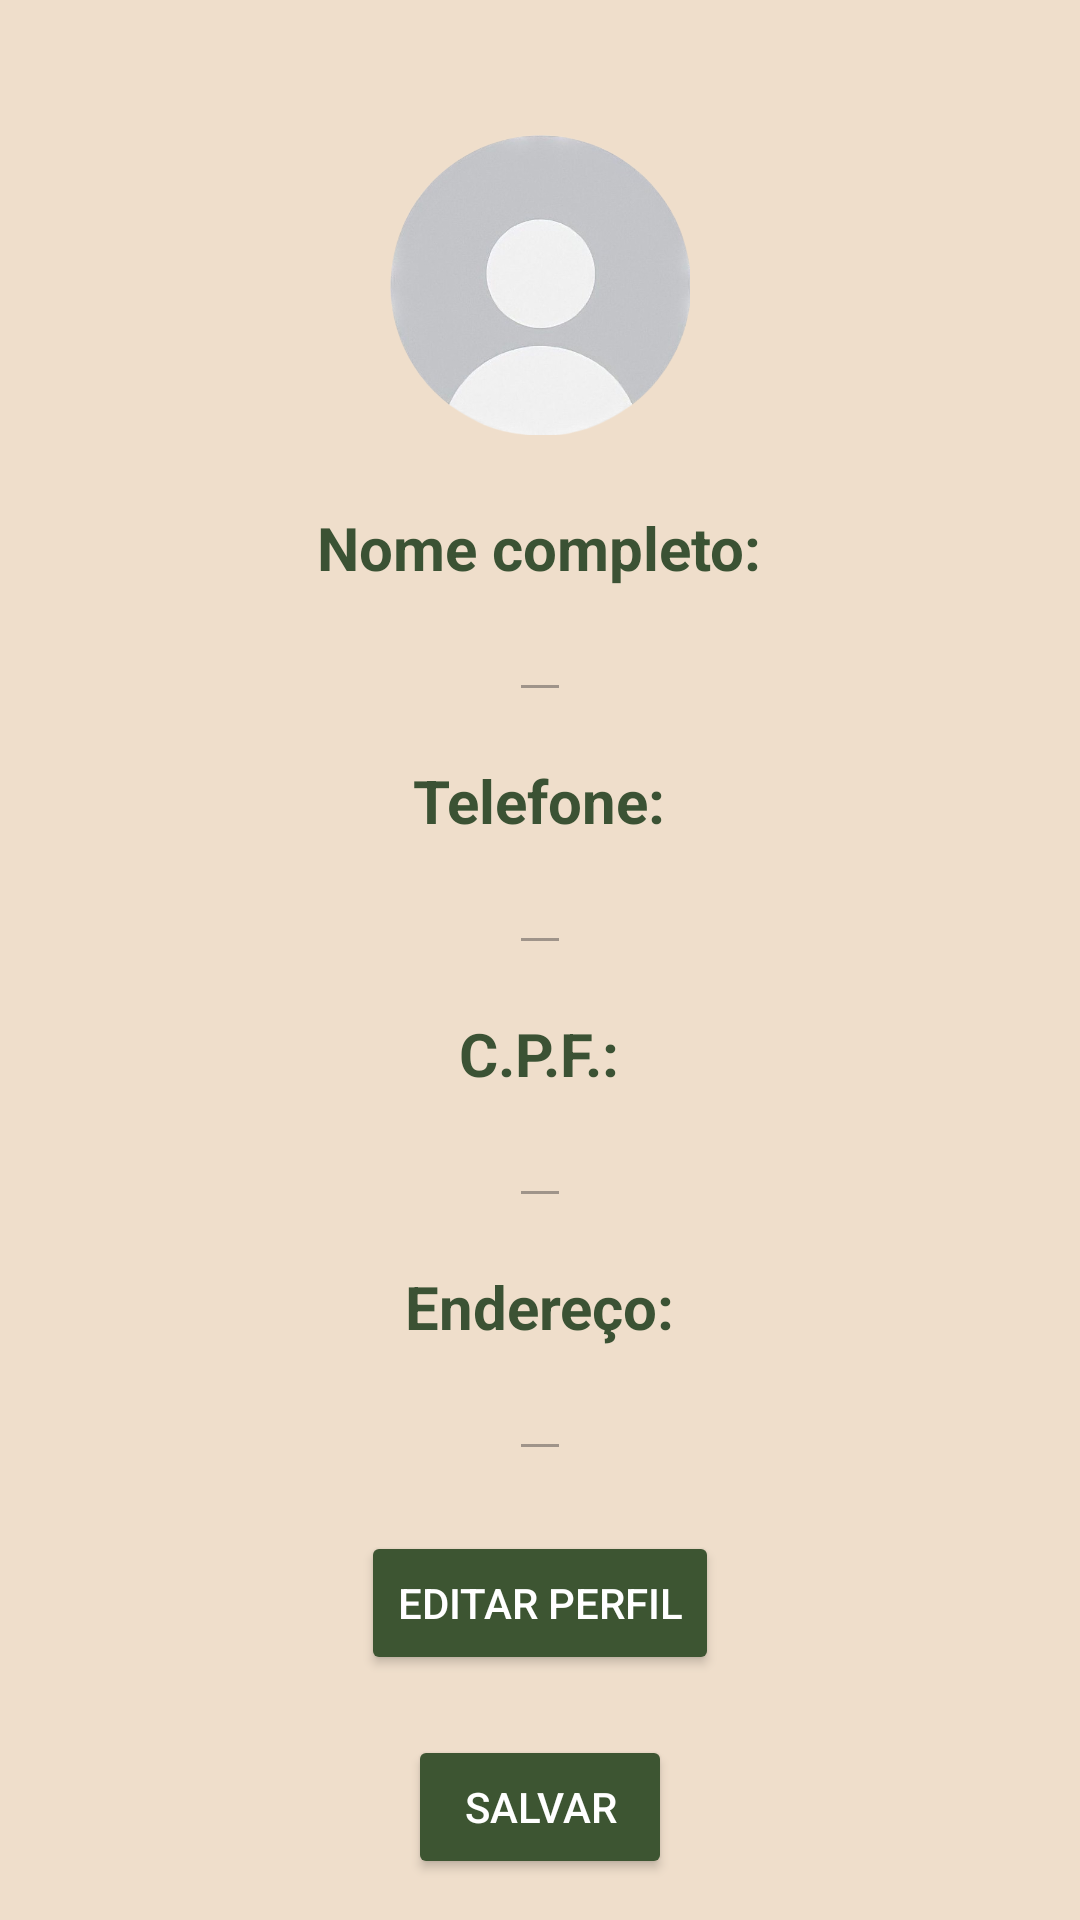

Screen size 1080x1920. Icon name, then its box in pixels as {"x1": x1, "y1": y1, "x2": x2, "y2": y2}:
Ícone do Usuário: {"x1": 391, "y1": 136, "x2": 690, "y2": 435}
